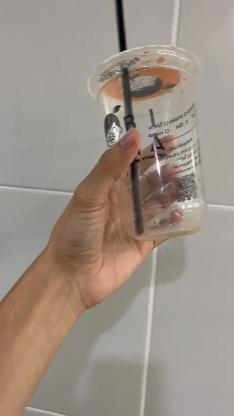Plastic Cup: (86, 44, 211, 242)
